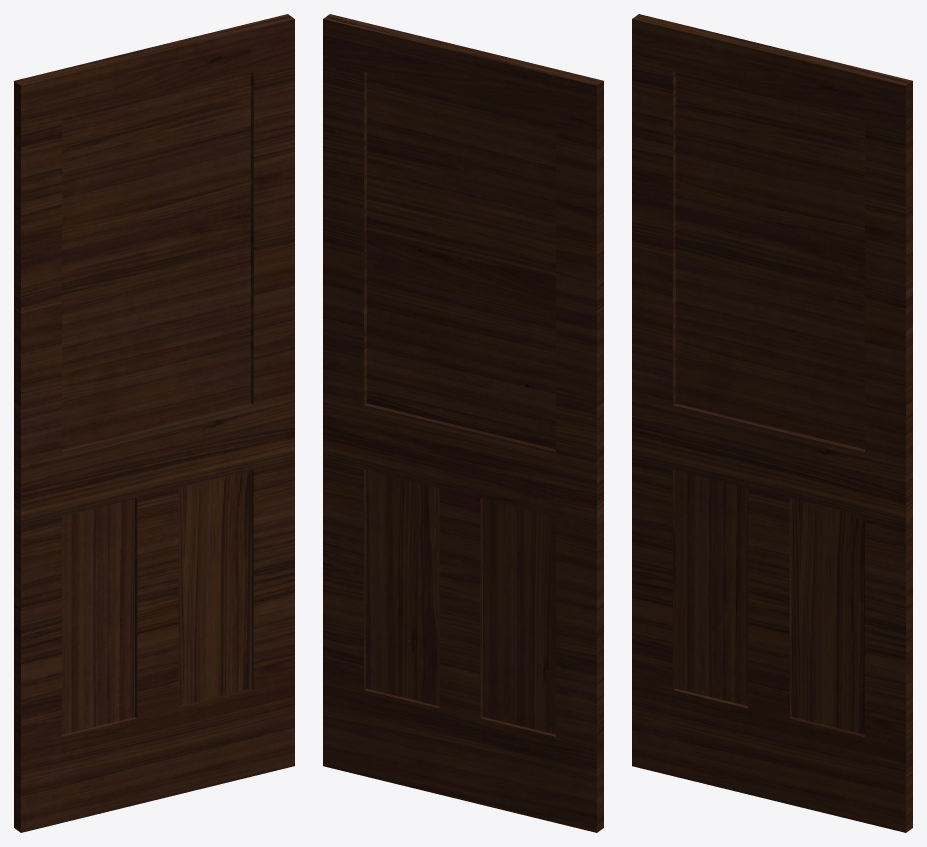
The model's file is SM_RearDoor_Final_04.fbx.
3 views of the same model, side by side, from view 1: azimuth 30°, elevation 25°; view 2: azimuth 150°, elevation 25°; view 3: azimuth 330°, elevation 25° (orthographic).
Parts seen in each view (by area): view 1: DoorMesh_01; view 2: DoorMesh_01; view 3: DoorMesh_01.
Boxes of the visible parts, x1,y1,x2,y2 form: DoorMesh_01: (14, 14, 294, 832); DoorMesh_01: (323, 14, 603, 832); DoorMesh_01: (632, 14, 912, 832).
Bounding box in the file's own units: 31.5 × 1.39 × 82.09.
Materials: 1 (1 with a texture image).
